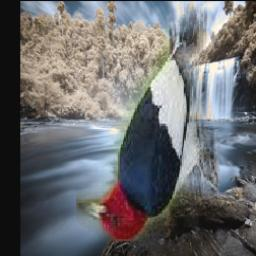Woodpecker: (77, 2, 220, 242)
